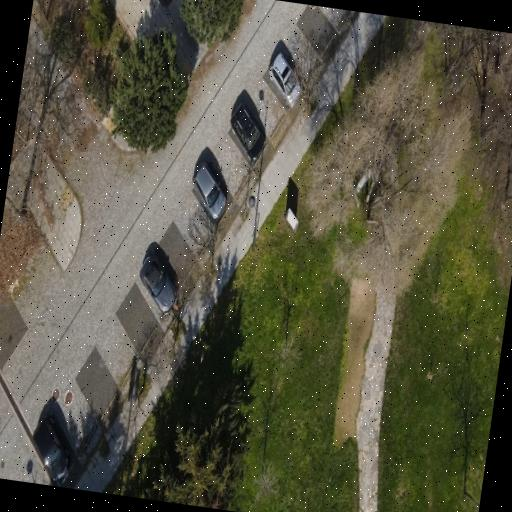person: (32, 417, 68, 480), (139, 255, 176, 312), (230, 104, 264, 162), (192, 163, 225, 220), (268, 54, 300, 107)
